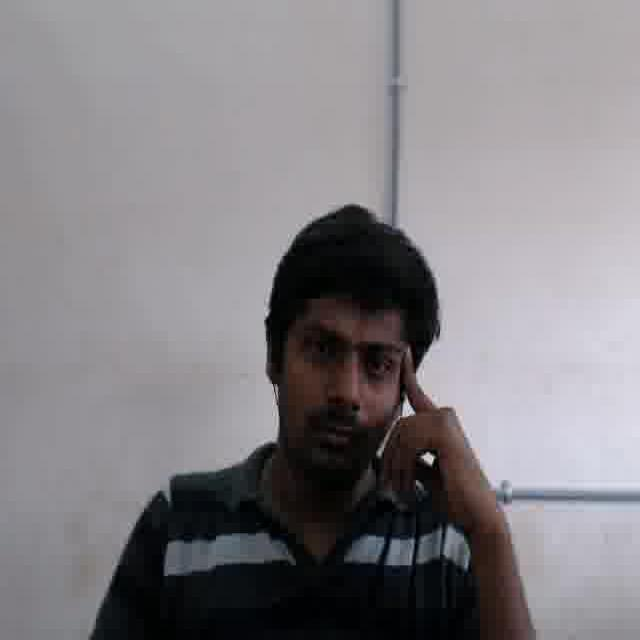Engaged: (282, 285, 402, 479)
